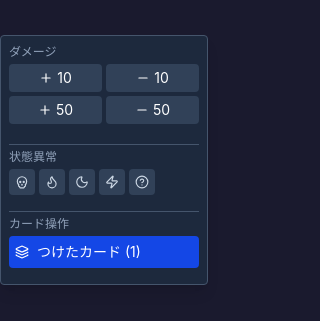
Test: CardMenu › つけたカード操作 › 「つけたカード」ボタンをクリックすると一覧が展開される
Click the button "つけたカード (1)": (104, 252) [9,236,199,268]
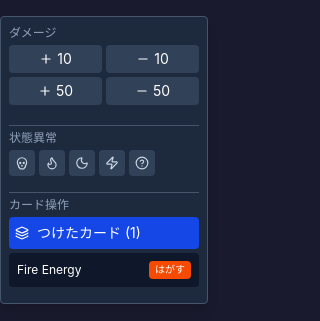
Expected: the text "Fire Energy" is shown, [17,262,81,278]
